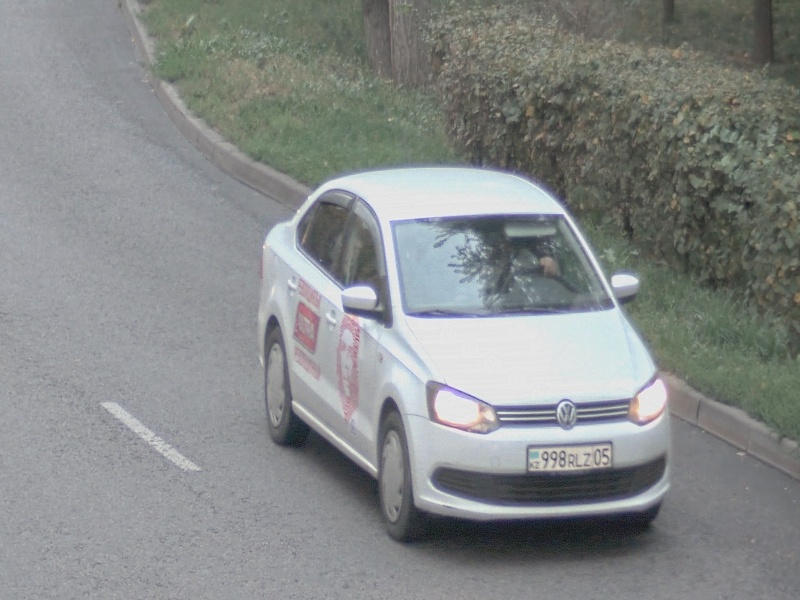plate: (527, 441, 613, 472)
